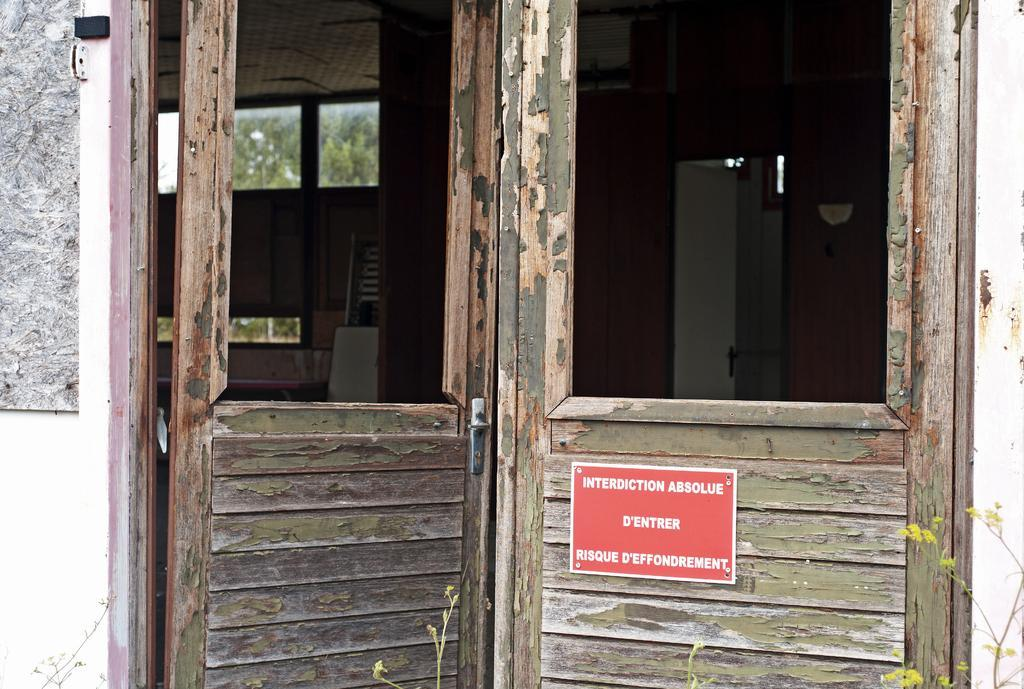door: (532, 8, 914, 689), (184, 0, 482, 689)
handle: (468, 418, 490, 439)
